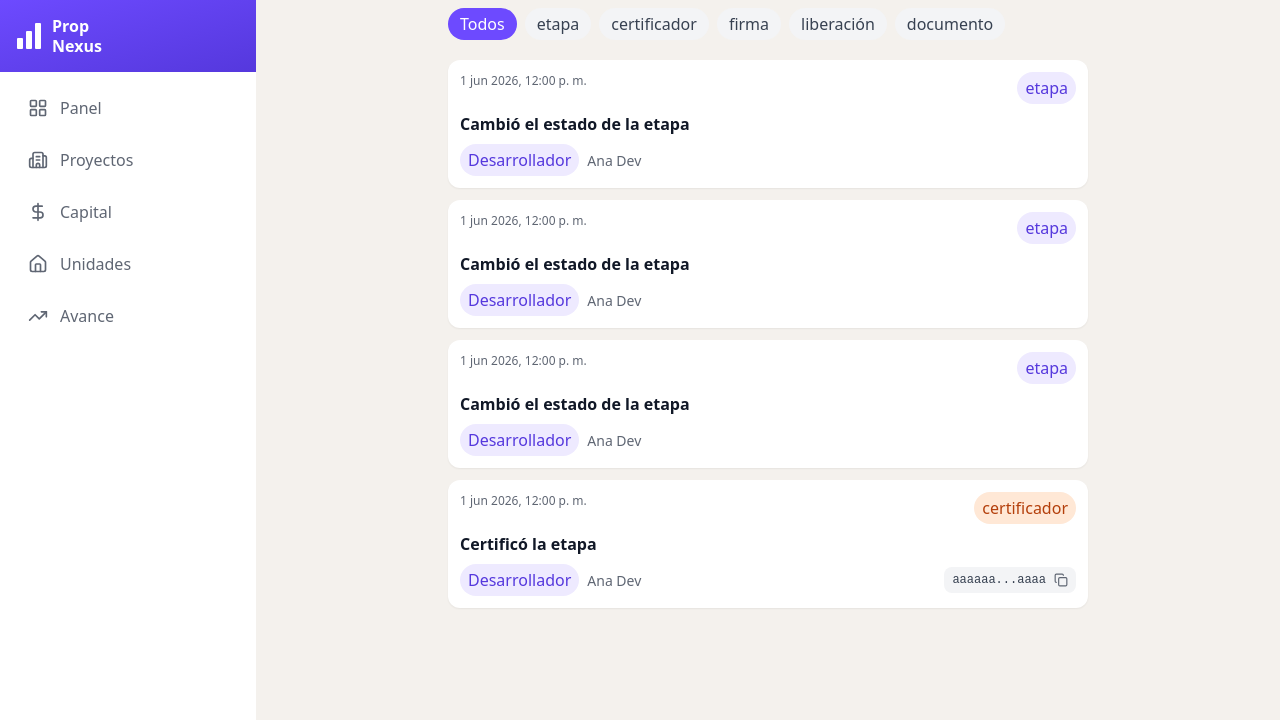
Test: /developer/audit-log › solo los eventos con TXID llevan chip, y tocarlo abre el modal de verificación (DEV-AUDIT-VERIFY-001)
(page scrolled)
Click the button "aaaaaa...aaaa": coordinates (999, 580) x1=952 y1=571 x2=1046 y2=589
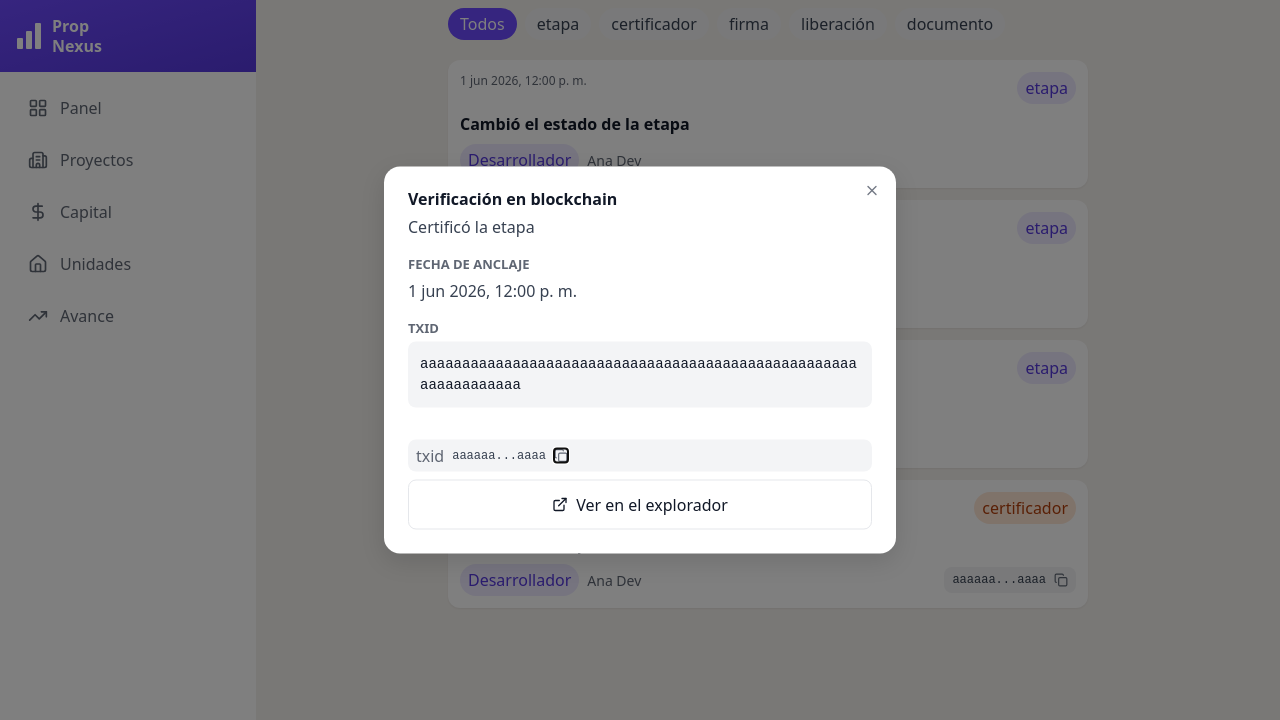
Check: the heading "Verificación en blockchain" is shown, box x1=408 y1=188 x2=617 y2=210
Press Escape in the button named "Copiar", box x1=554 y1=448 x2=568 y2=462
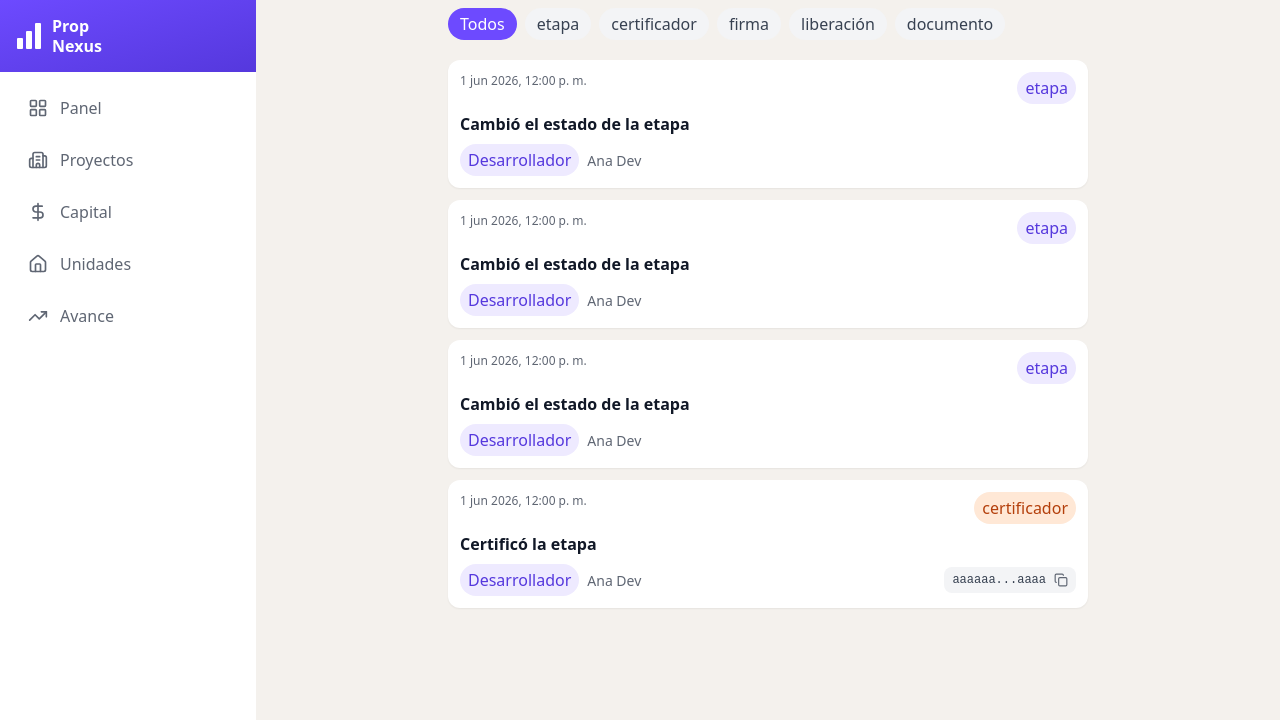
Check: the dialog with test id "DEV-AUDIT-VERIFY-001" is gone
